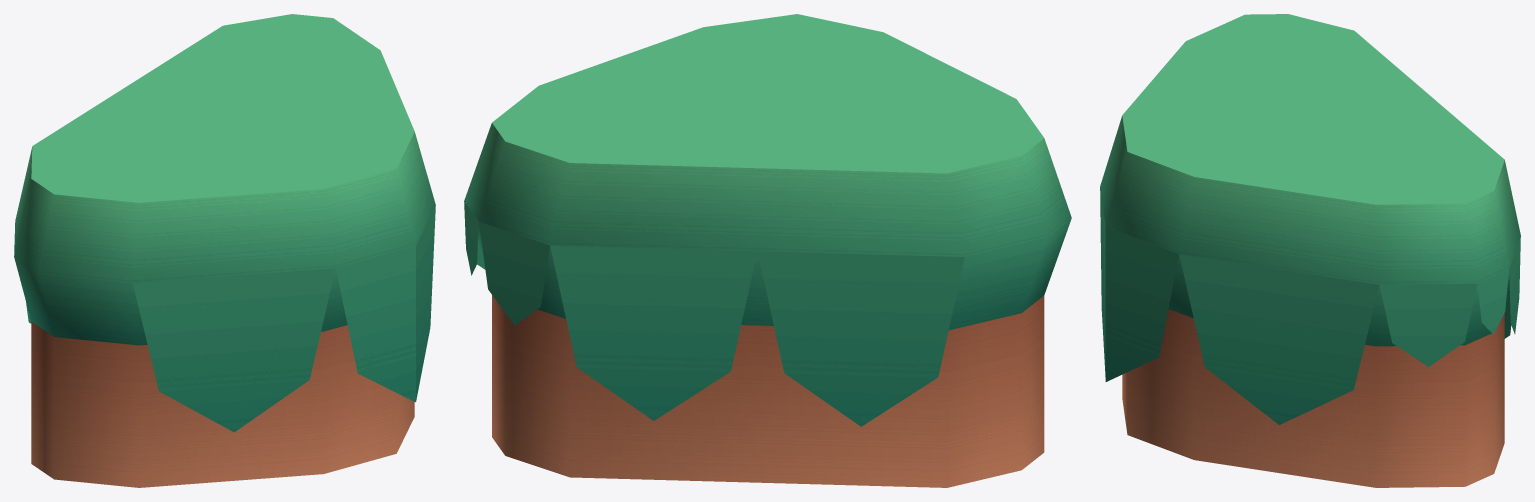
The model's file is block-grass-corner-overhang-low_lev2.glb.
3 views of the same model, side by side, from view 1: azimuth 30°, elevation 25°; view 2: azimuth 150°, elevation 25°; view 3: azimuth 270°, elevation 25° (orthographic). The views are drawn at different scales.
Visible parts, largest first — view 1: block-grass-corner-overhang-low_lev2; view 2: block-grass-corner-overhang-low_lev2; view 3: block-grass-corner-overhang-low_lev2.
Boxes of the visible parts, x1=… form: block-grass-corner-overhang-low_lev2: x1=14, y1=14, x2=435, y2=487; block-grass-corner-overhang-low_lev2: x1=464, y1=14, x2=1071, y2=487; block-grass-corner-overhang-low_lev2: x1=1100, y1=14, x2=1520, y2=487.
Bounding box in the file's own units: 1.8 × 1.13 × 1.52.
1 material, 1 textured.
